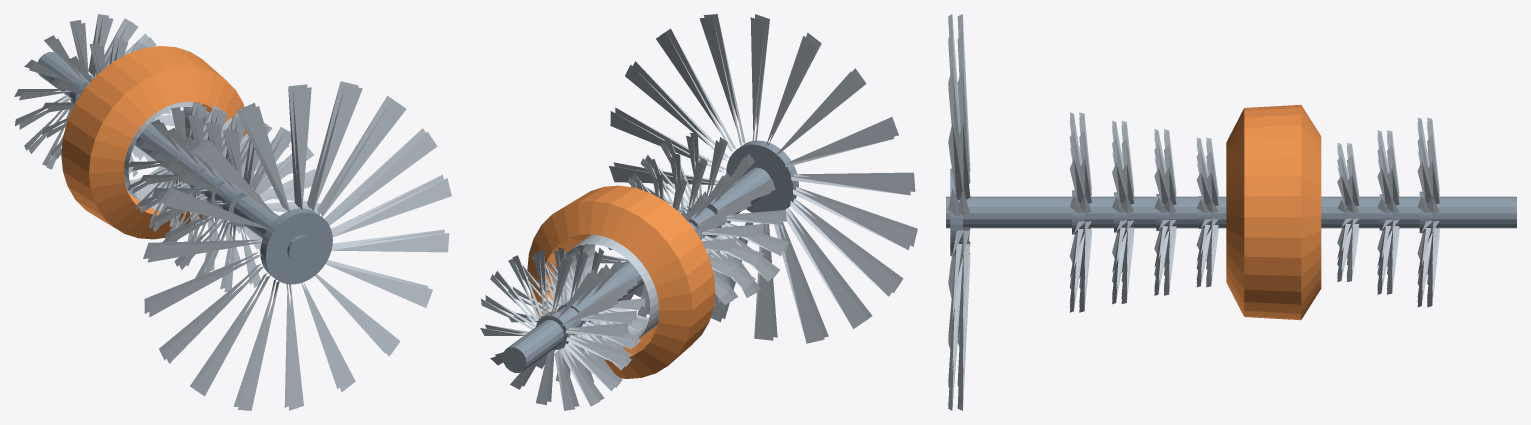
File: combustor.glb
The picture shows the model from 3 angles, left to right: view 1: azimuth 30°, elevation 25°; view 2: azimuth 150°, elevation 25°; view 3: azimuth 270°, elevation 25°; orthographic projection. The views are drawn at different scales.
Size of the model in its own units: 3.74 by 3.76 by 5.4.
